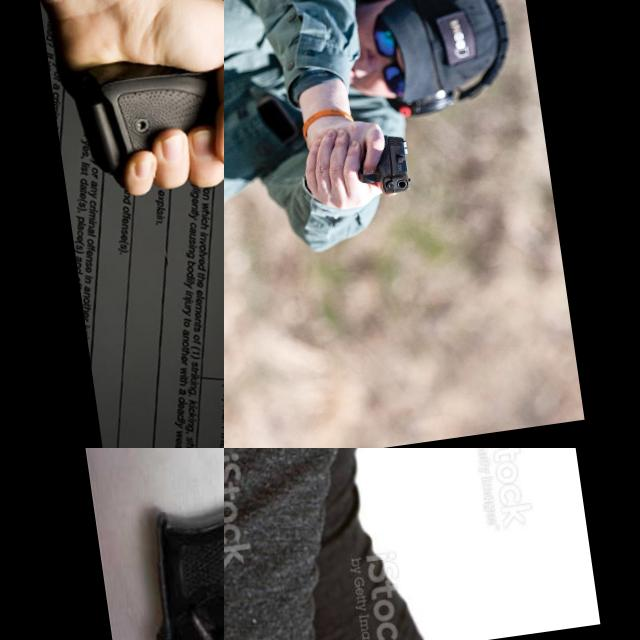handgun: (56, 0, 224, 410), (79, 448, 224, 640), (276, 448, 498, 537), (352, 130, 418, 202)
